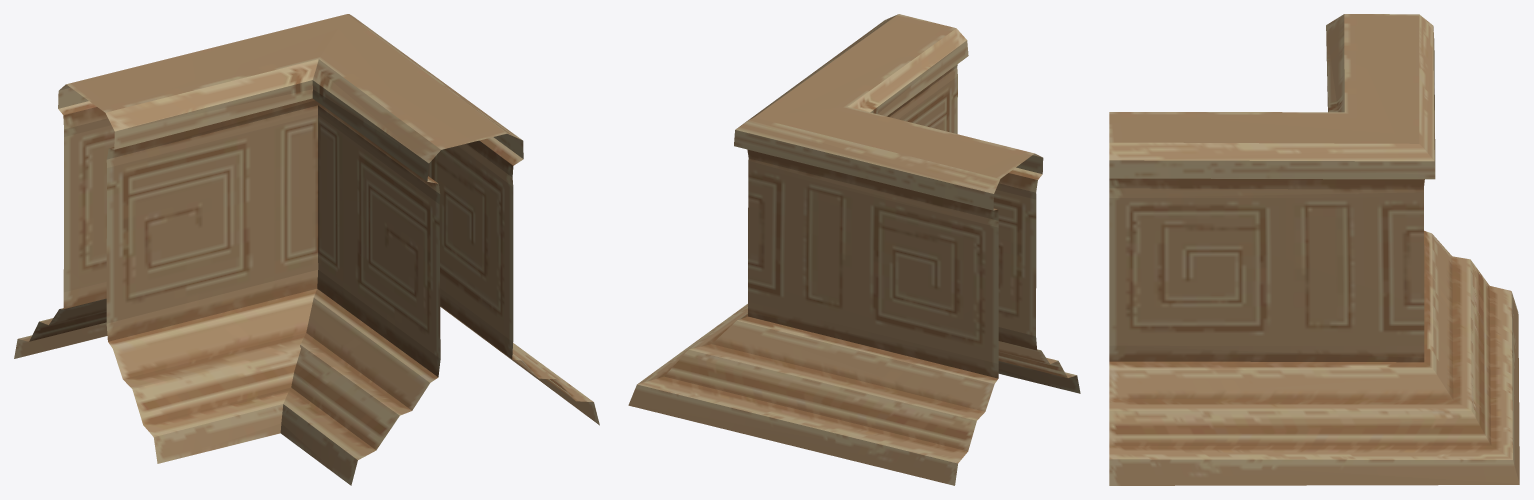
Rendered from wallTile_corner.fbx.
The picture shows the model from 3 angles, left to right: view 1: azimuth 30°, elevation 25°; view 2: azimuth 150°, elevation 25°; view 3: azimuth 270°, elevation 25°; orthographic projection. The views are drawn at different scales.
Parts seen in each view (by area): view 1: wallTile_corner; view 2: wallTile_corner; view 3: wallTile_corner.
Boxes of the visible parts, left/top/right/bottom form: wallTile_corner: left=14, top=14, right=599, bottom=485; wallTile_corner: left=628, top=14, right=1080, bottom=485; wallTile_corner: left=1109, top=14, right=1519, bottom=485.
Bounding box in the file's own units: 3.4 × 2.74 × 3.4.
Materials: 1 (1 with a texture image).
